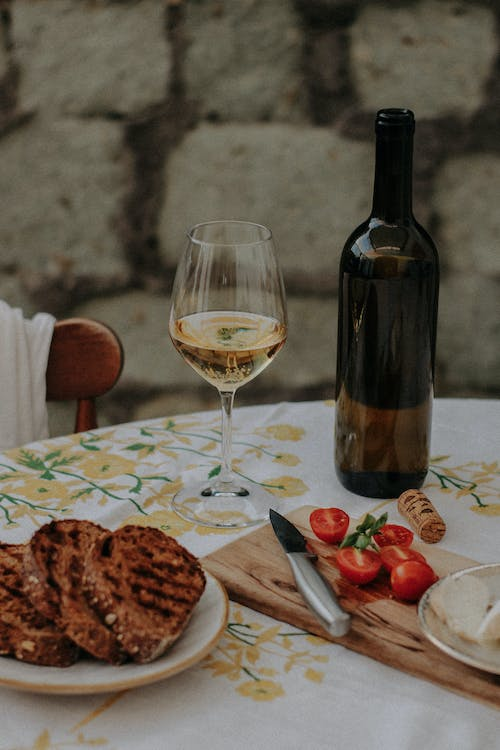alcohol: (333, 104, 441, 498), (164, 217, 292, 533)
knife: (264, 504, 352, 642)
